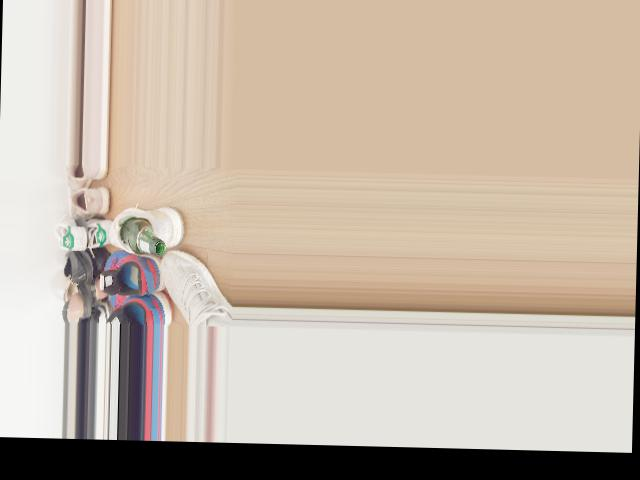beer: (120, 217, 166, 256)
